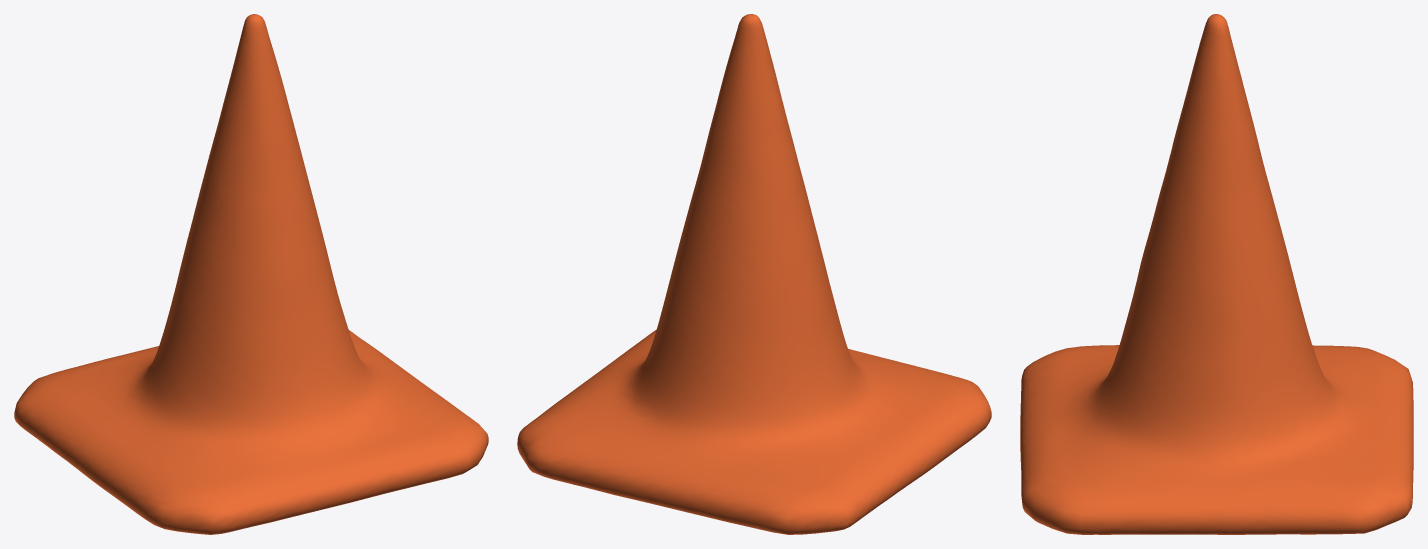
The model's file is triangle.fbx.
3 views of the same model, side by side, from view 1: azimuth 30°, elevation 25°; view 2: azimuth 150°, elevation 25°; view 3: azimuth 270°, elevation 25° (orthographic). The views are drawn at different scales.
Parts seen in each view (by area): view 1: Mesh1.0; view 2: Mesh1.0; view 3: Mesh1.0.
Boxes of the visible parts, x1,y1,x2,y2 form: Mesh1.0: (14,14,488,534); Mesh1.0: (517,14,991,534); Mesh1.0: (1020,14,1413,534).
Bounding box in the file's own units: 80.66 × 99.11 × 79.03.
